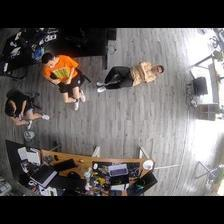fall: (93, 61, 167, 99)
normal: (42, 55, 87, 109), (5, 97, 51, 127)
